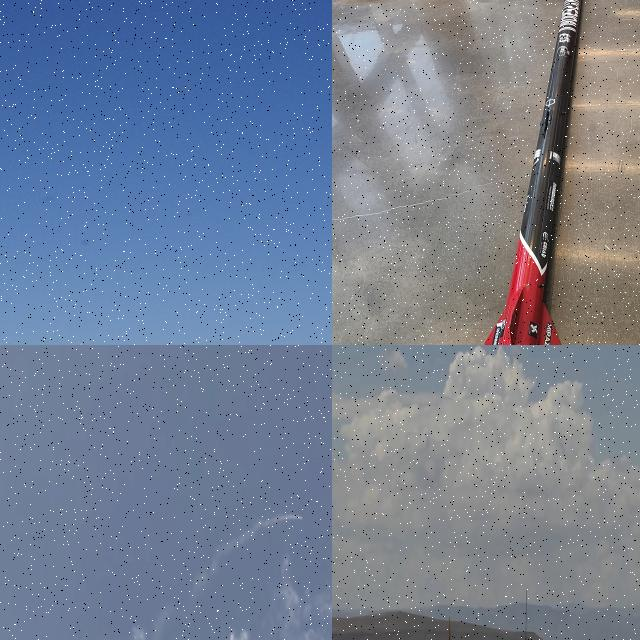Rocket: (484, 0, 583, 345), (447, 624, 453, 640), (302, 517, 304, 520)
